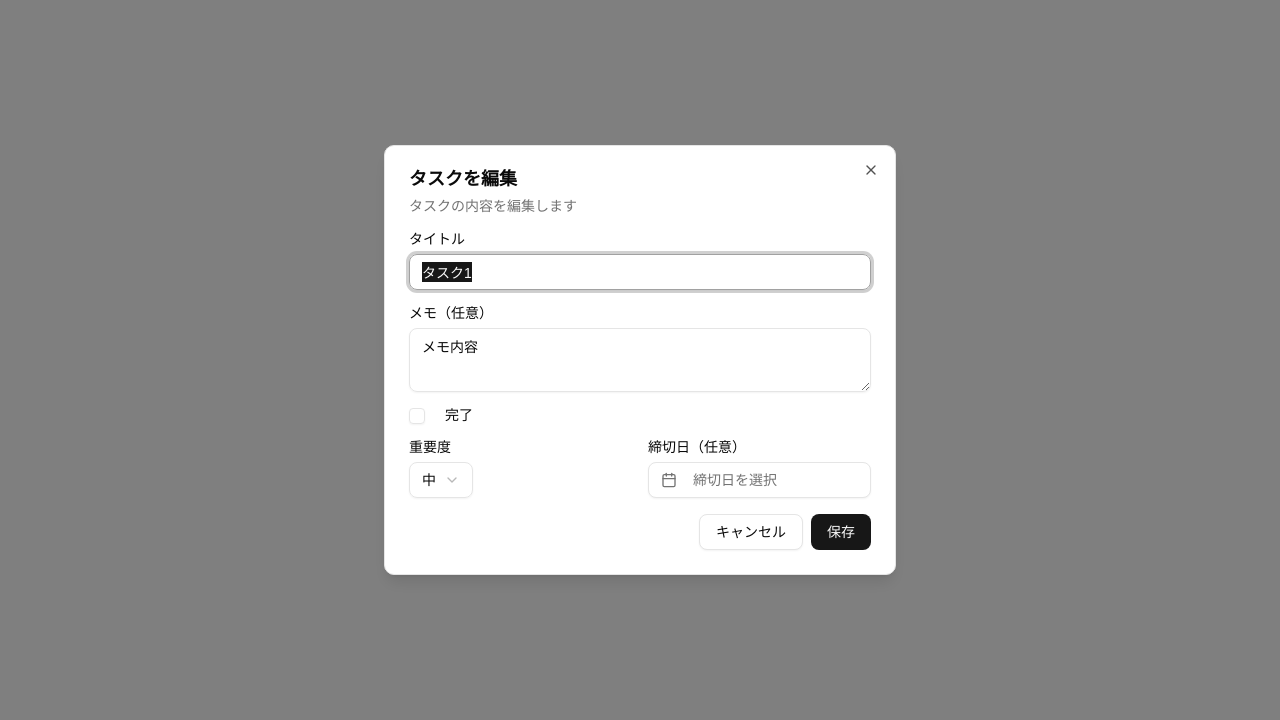
Test case: TodoEditDialog › should show server error on update failure
Click the button "保存".
click(841, 532)  # box x1=811 y1=514 x2=871 y2=550
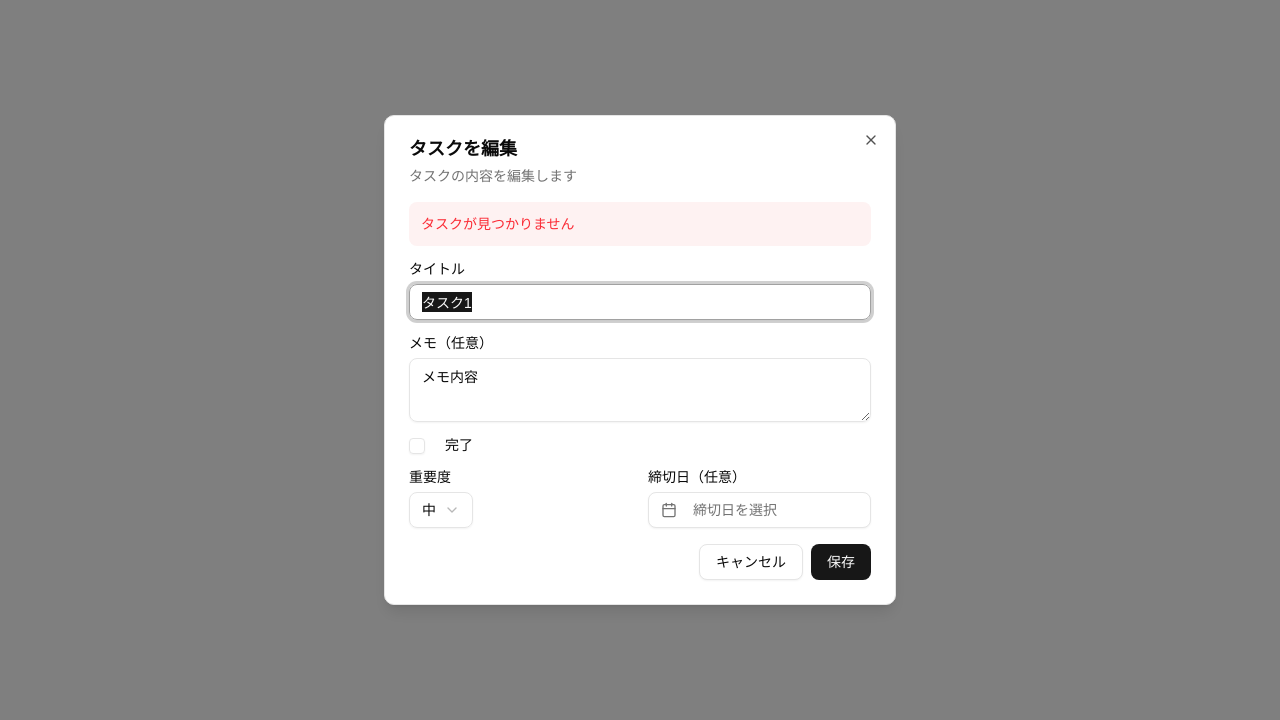
Expected: the text "タスクが見つかりません" is shown, x1=409 y1=202 x2=871 y2=246
